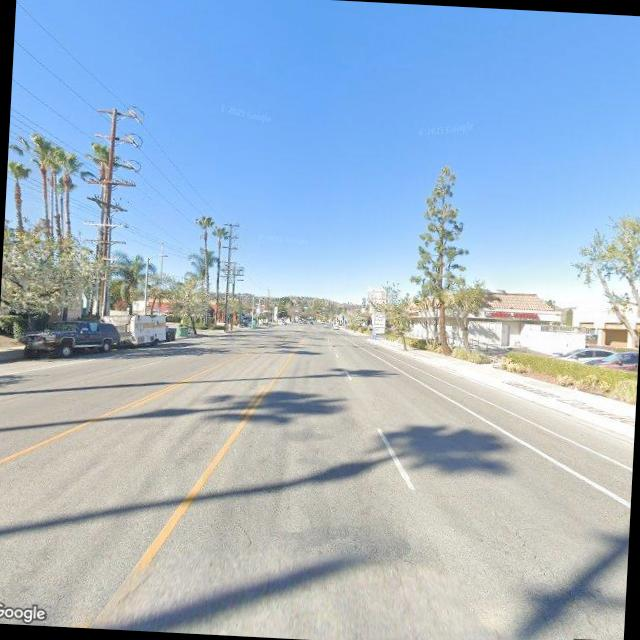crack: (231, 518, 254, 548)
